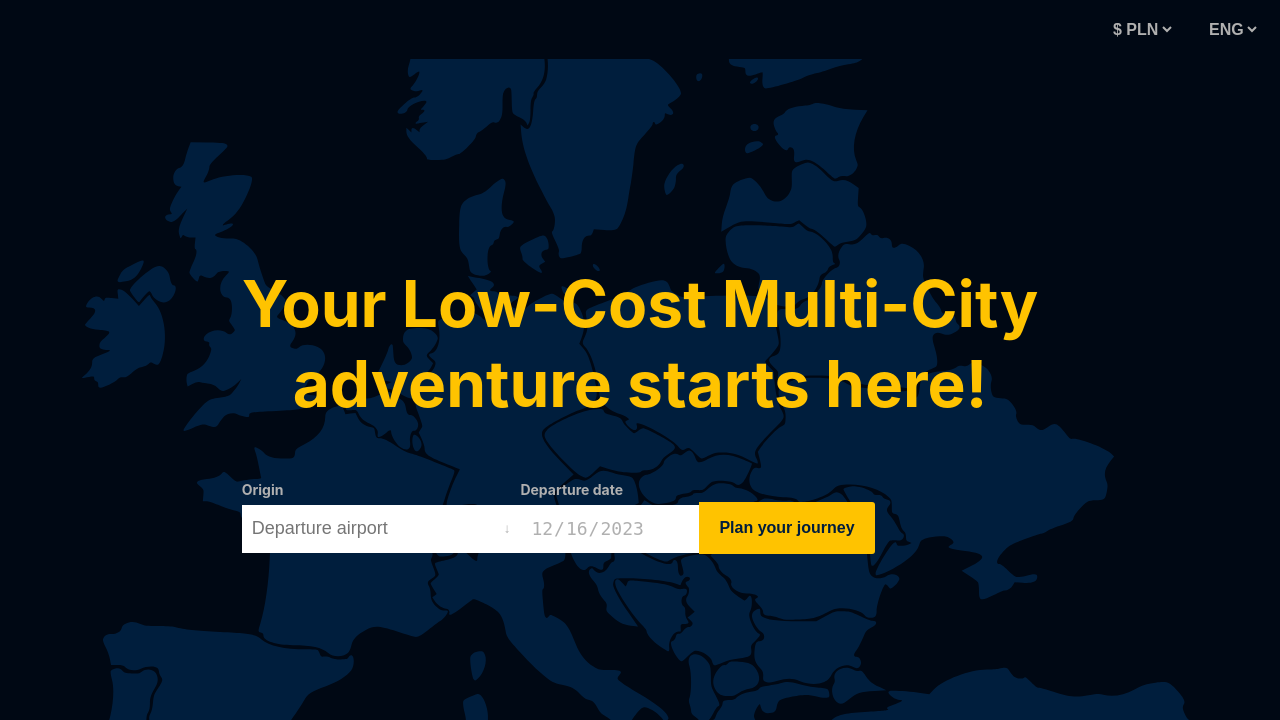
Scenario: Main page initial state › shows back button on timeline
Press ArrowDown in the dropdown with placeholder "Departure airport", box [242, 504, 494, 552]
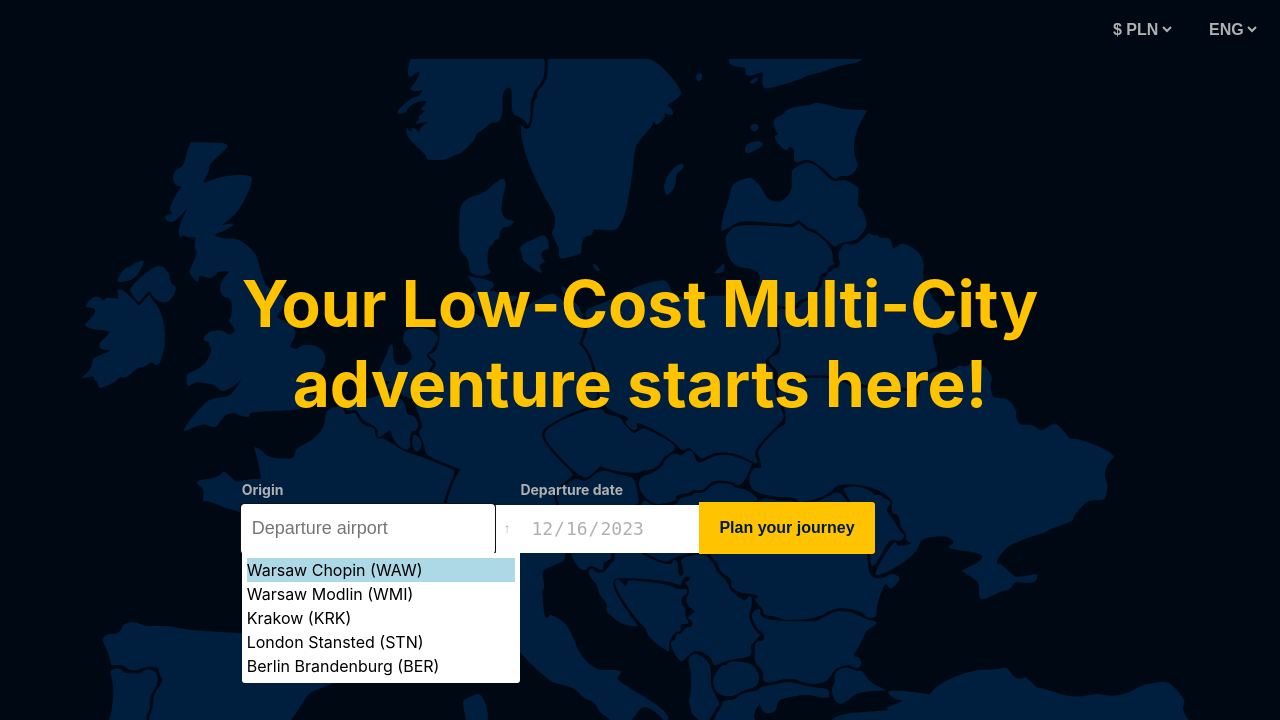
Press Enter in the dropdown with placeholder "Departure airport", box [242, 504, 494, 552]
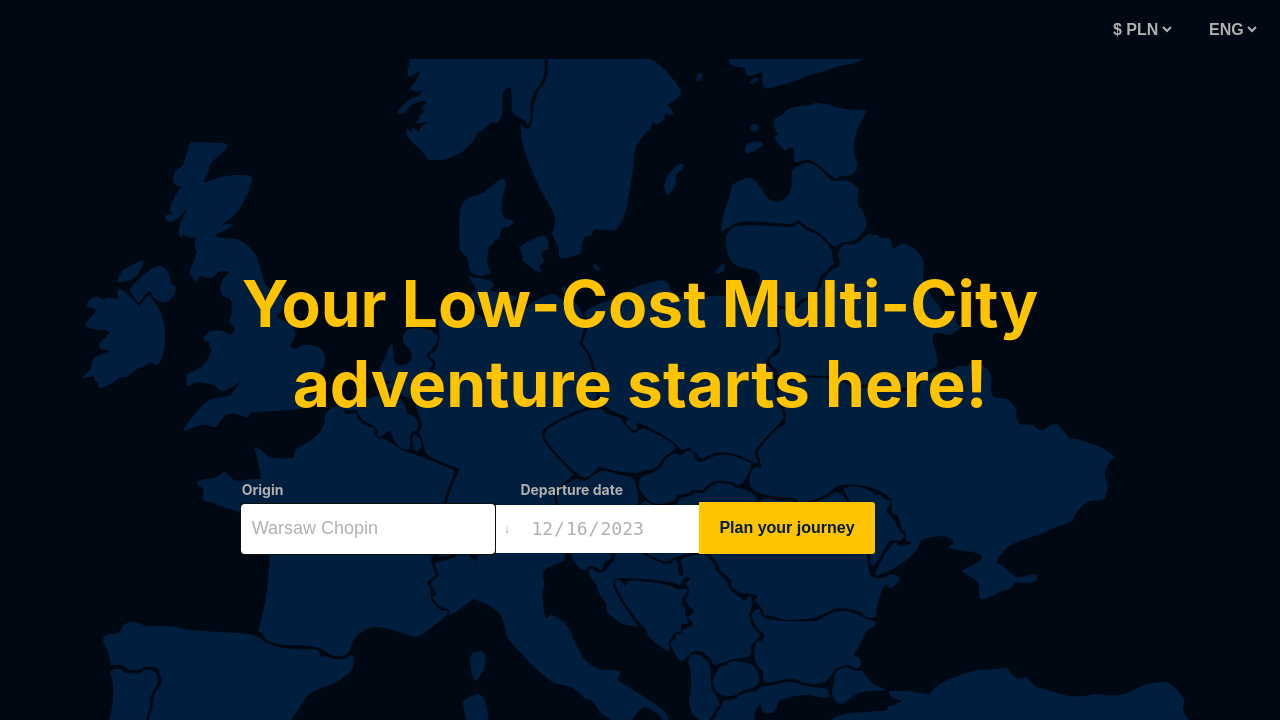
Type "2024-11-10" into the date field labelled "Departure date" at (610,528), box [520, 504, 699, 552]
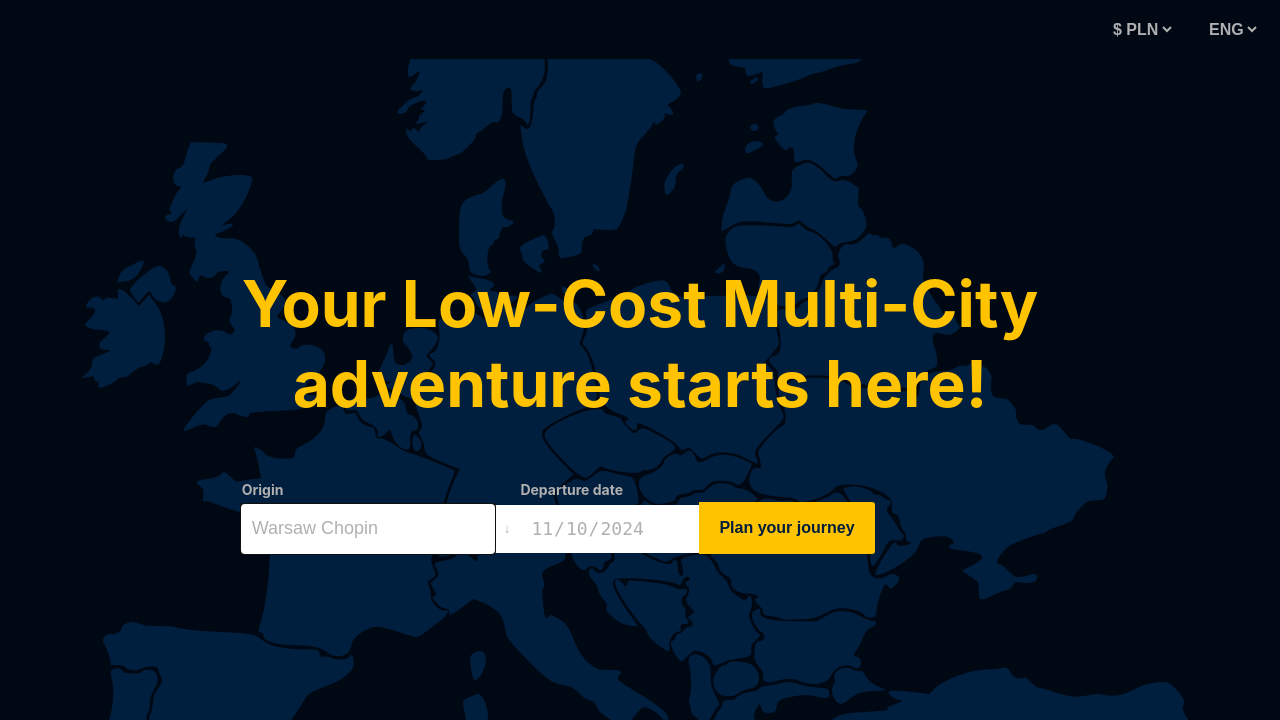
Click the button with test id "submit-departure-form" at (787,528), box [699, 502, 874, 554]
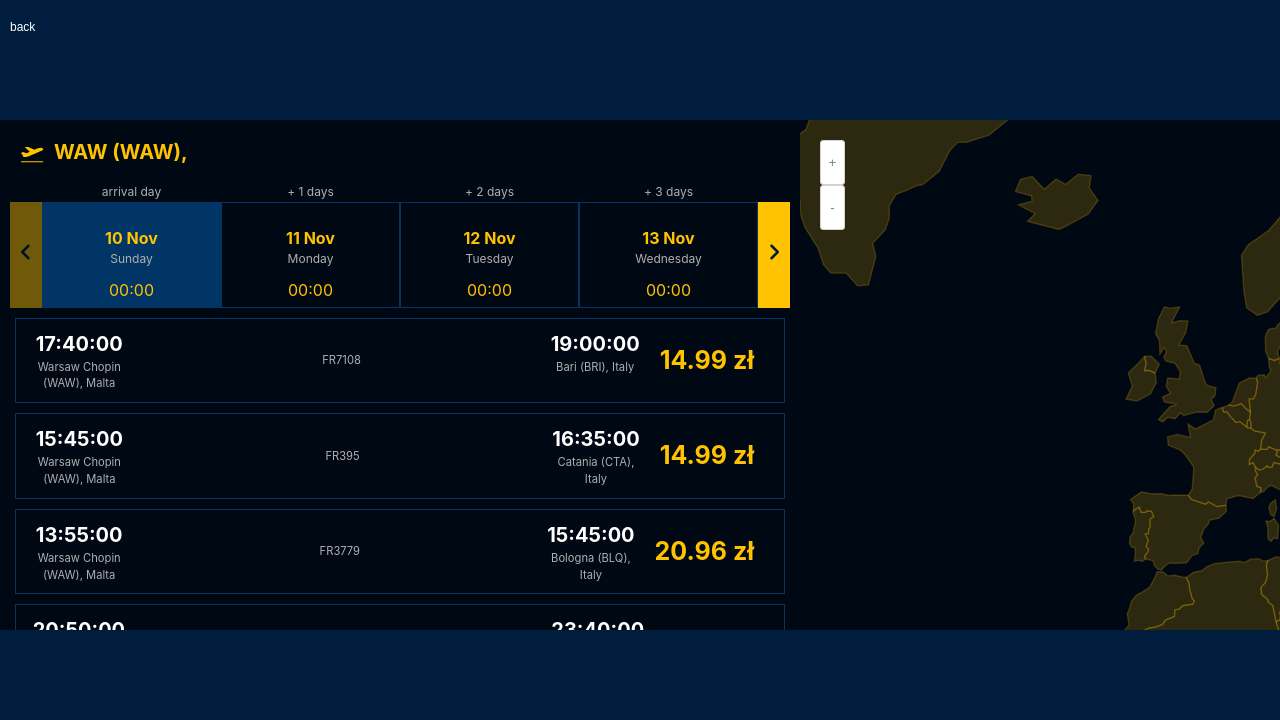
Check: the button "back" is shown, box [10, 20, 35, 34]
